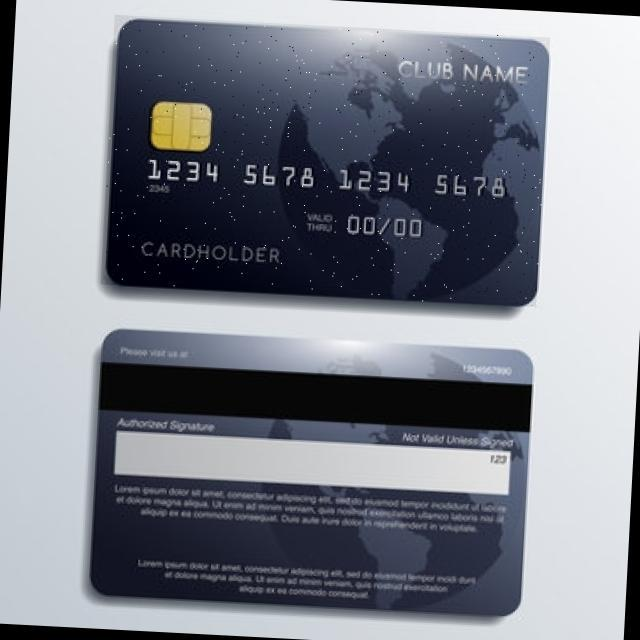payment_card: (104, 15, 550, 306), (88, 328, 533, 617)
